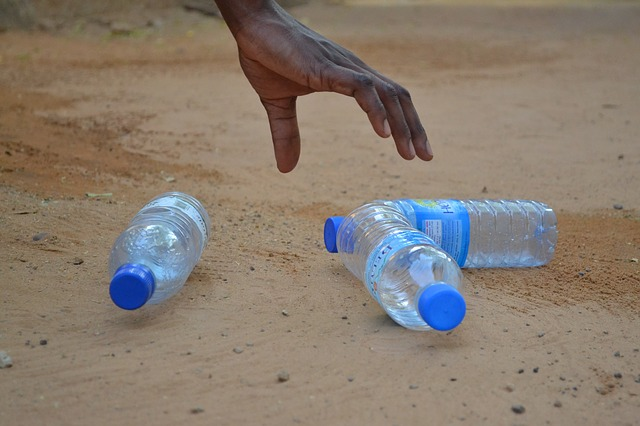plastic_bottle: (321, 193, 563, 268), (337, 203, 475, 332), (103, 181, 217, 317)
